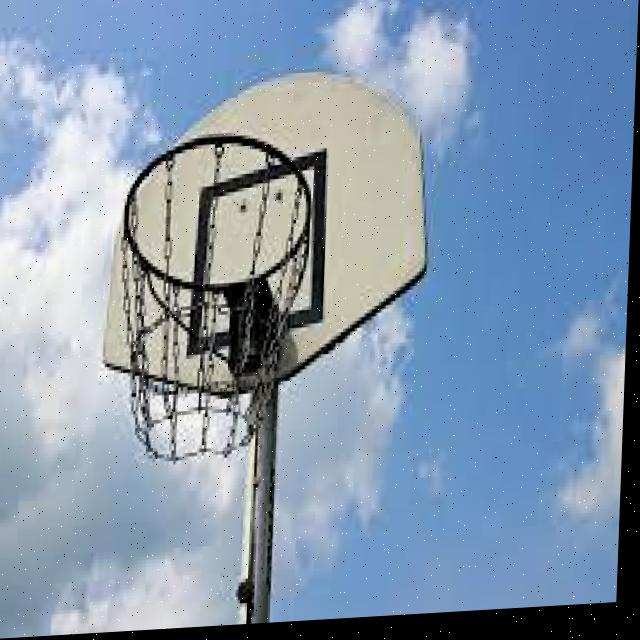hoop: (115, 128, 316, 468)
